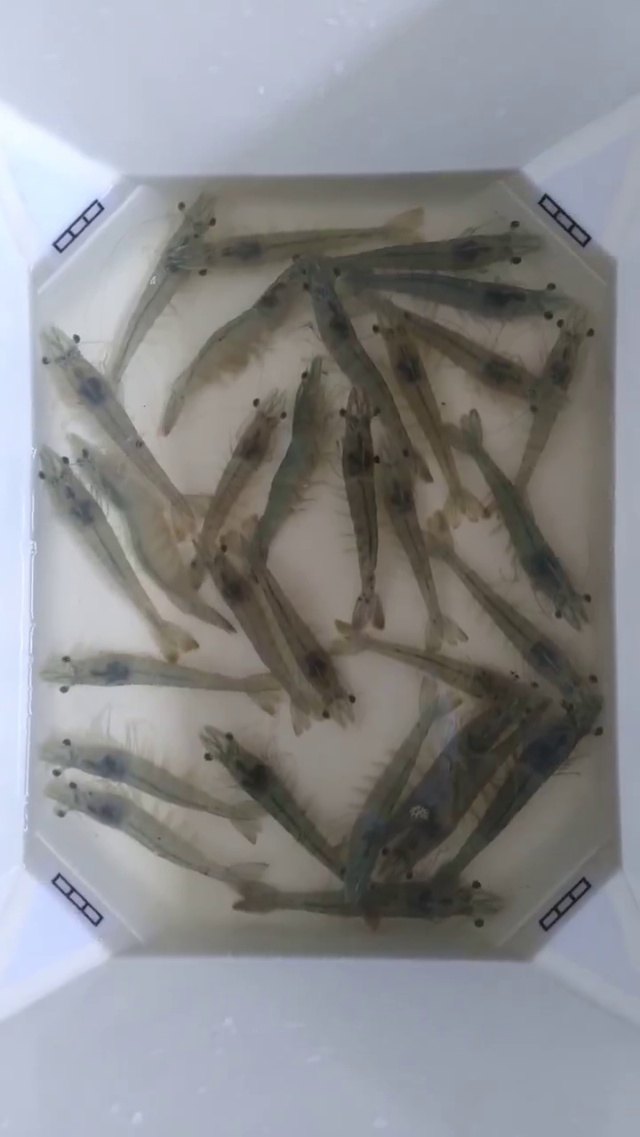shrimp: (561, 446, 639, 754), (562, 517, 639, 829), (560, 194, 639, 487), (313, 293, 430, 482), (31, 228, 136, 406), (69, 355, 186, 513), (514, 285, 593, 489), (193, 419, 268, 633), (46, 578, 185, 692), (0, 578, 69, 805), (422, 836, 542, 960), (509, 193, 612, 326), (23, 744, 104, 909), (199, 182, 298, 317), (308, 779, 393, 930), (37, 444, 131, 574), (295, 597, 384, 730), (135, 194, 215, 335), (337, 209, 460, 299), (169, 728, 265, 843), (0, 273, 35, 539), (423, 455, 495, 575), (222, 674, 319, 762), (0, 371, 34, 584), (224, 388, 289, 476), (147, 596, 232, 662)
